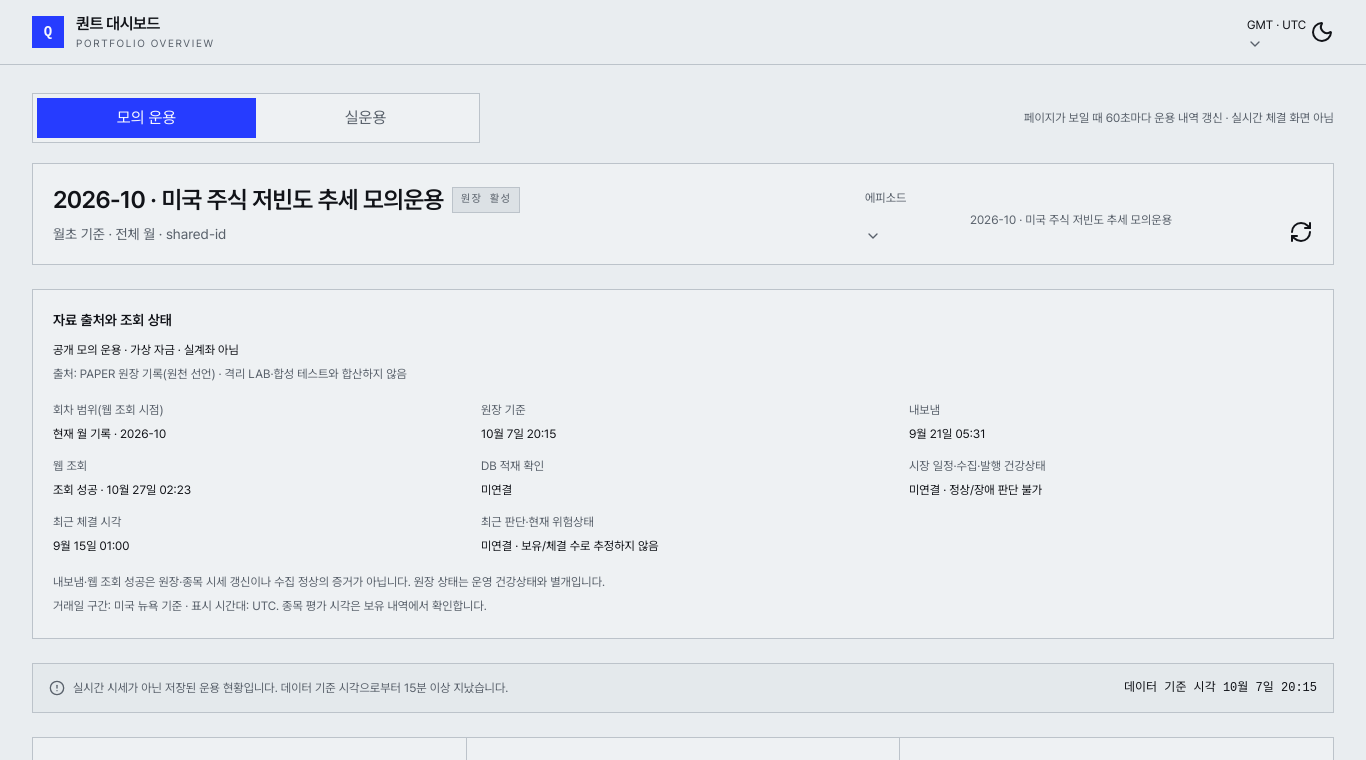
Quant dashboard app › selects each month in one episode control without changing historical rows
Expected: the heading "2026-10 · 미국 주식 저빈도 추세 모의운용" is shown, [53,184,444,216]
Click the dropdown named "에피소드" at (1071, 228), box [865,212,1277,244]
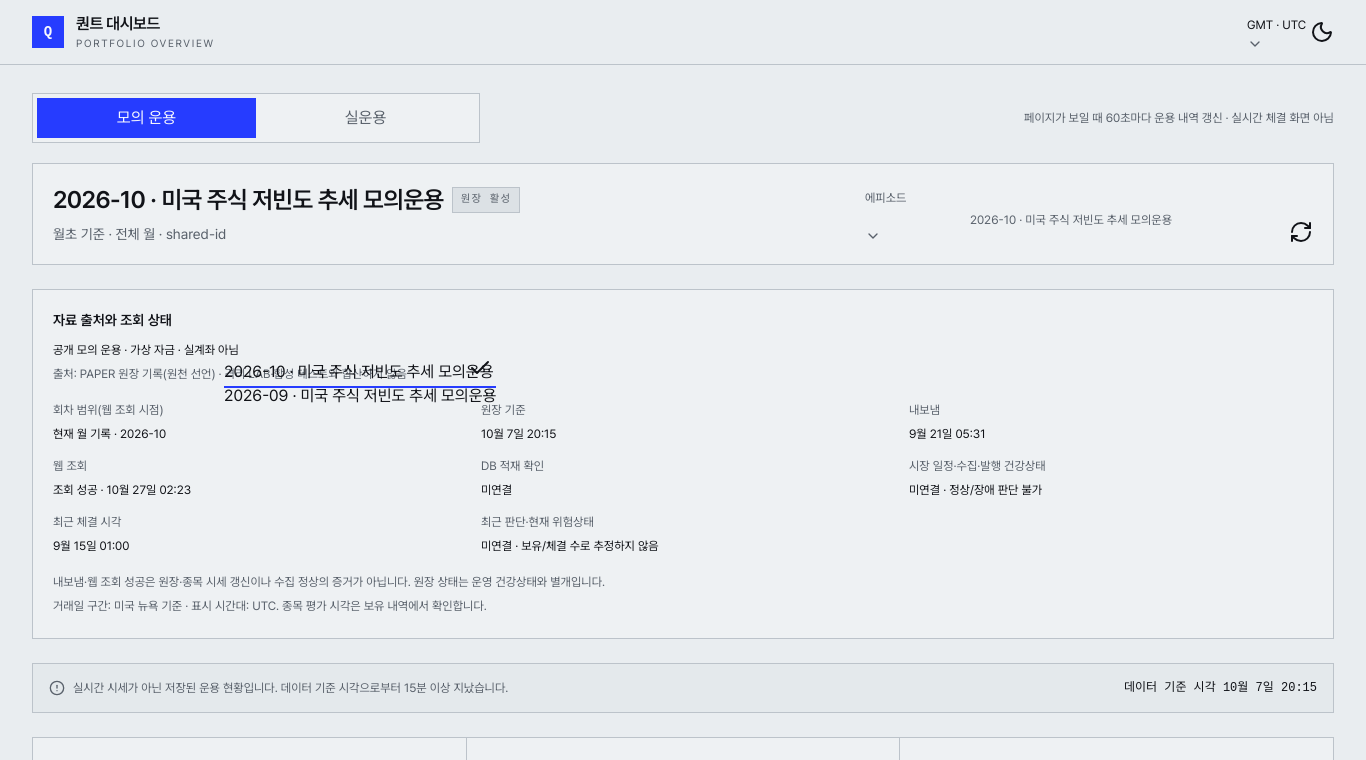
Expected: the option "2026-09 · 미국 주식 저빈도 추세 모의운용" is shown
Click the option "2026-09 · 미국 주식 저빈도 추세 모의운용" at (360, 396), box [224,384,496,408]
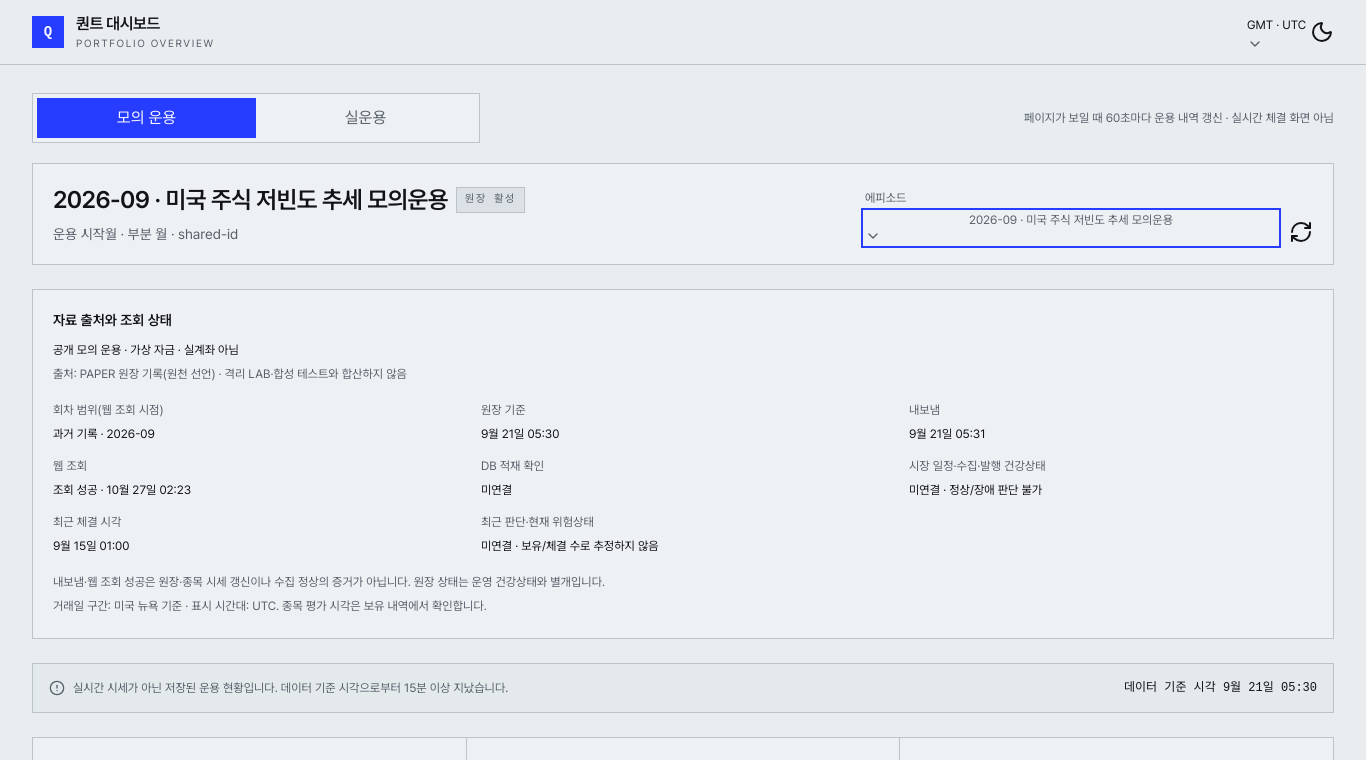
Expected: the heading "2026-09 · 미국 주식 저빈도 추세 모의운용" is shown, [53,184,448,216]
Expected: the text "운용 시작월 · 부분 월 · shared-id" is shown, [53,226,238,242]
